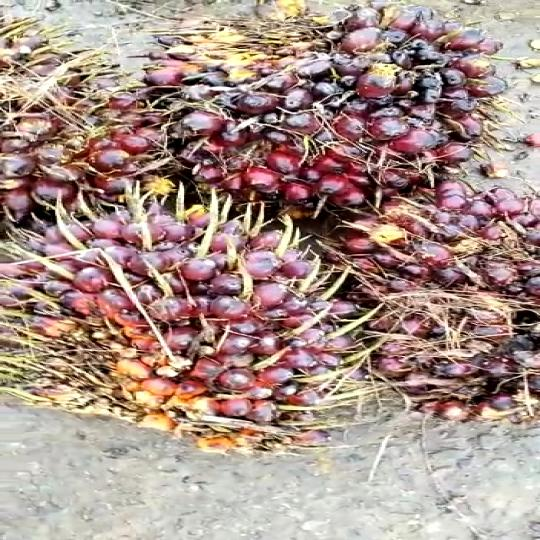kurang masak: (1, 194, 338, 470), (142, 0, 471, 215)
